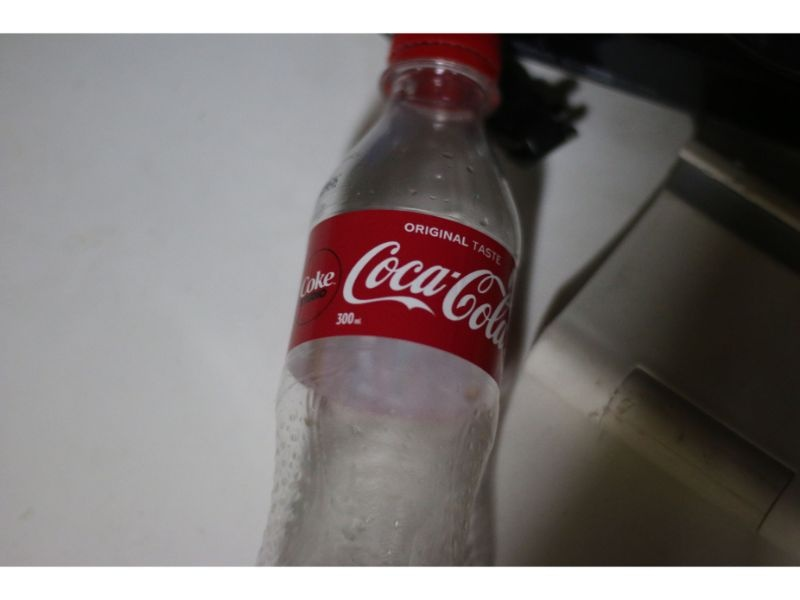PET #1: (253, 30, 523, 564)
